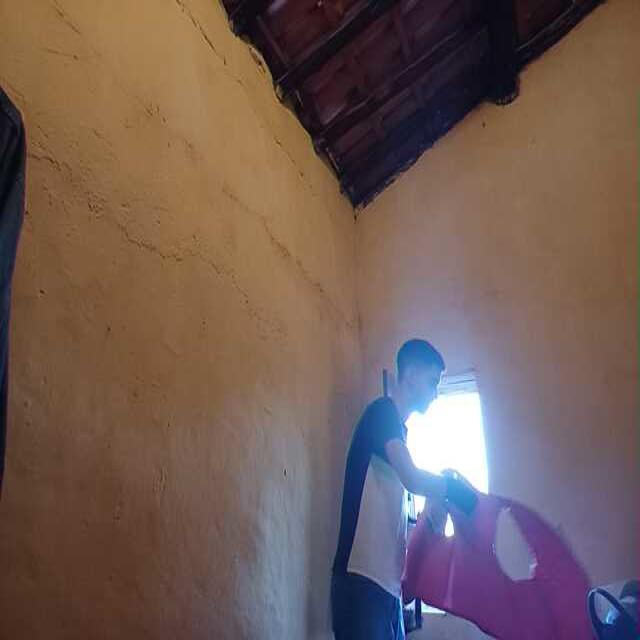capacete: (583, 566, 640, 640)
colete: (410, 459, 600, 640)
pessoa: (343, 342, 446, 640)
